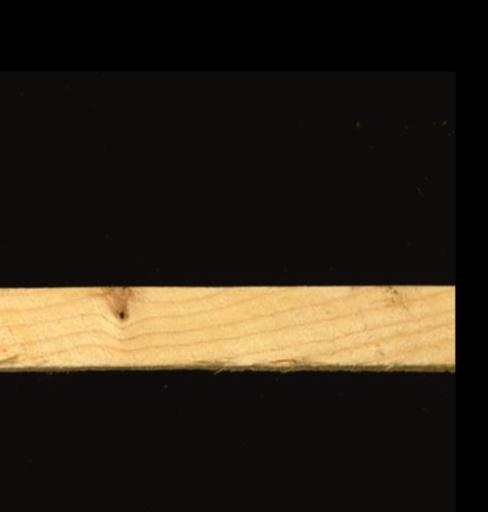small_knot: (116, 308, 124, 321)
split: (271, 358, 300, 364)
